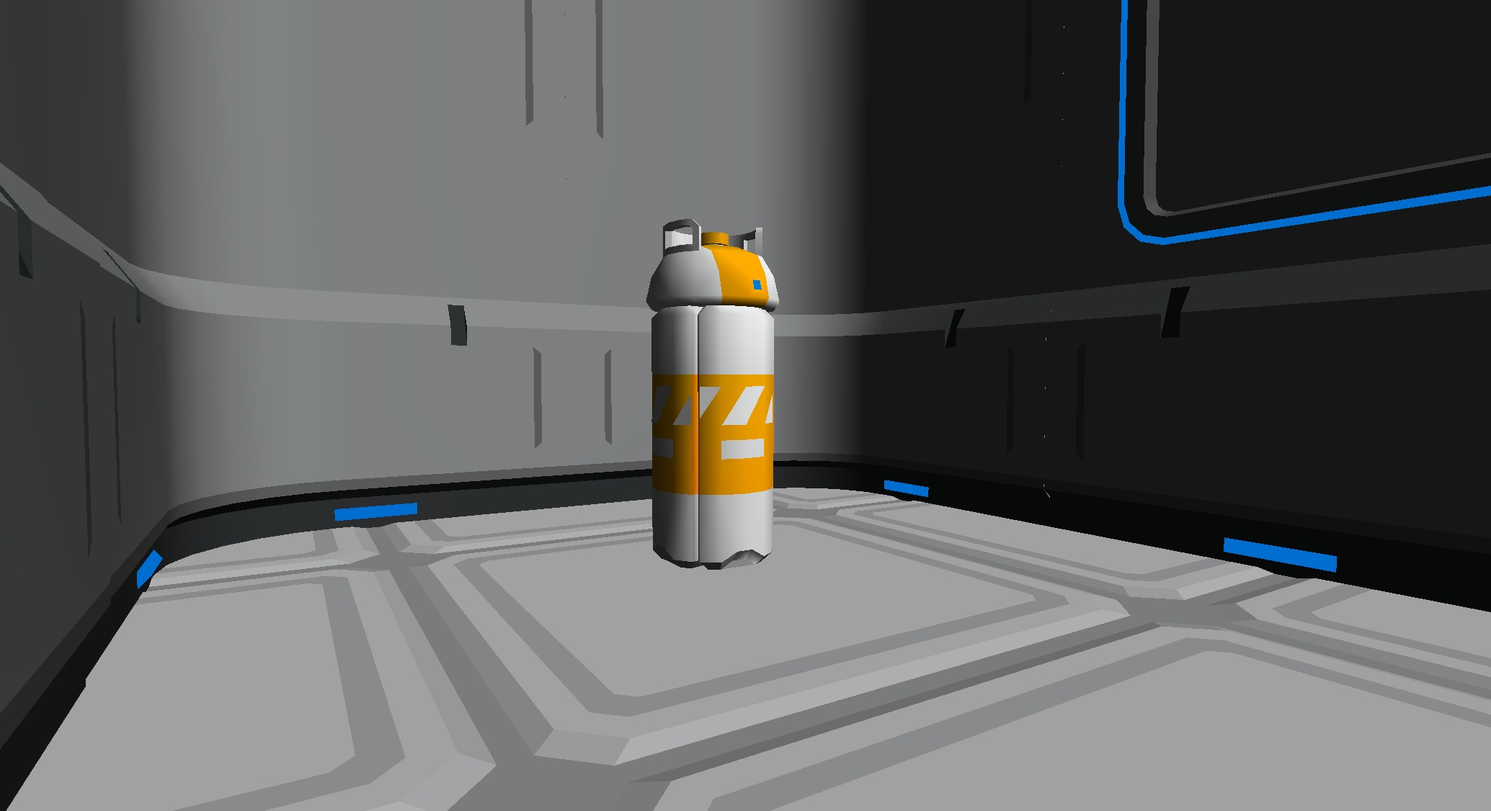yellow_barrel: (648, 219, 779, 568)
